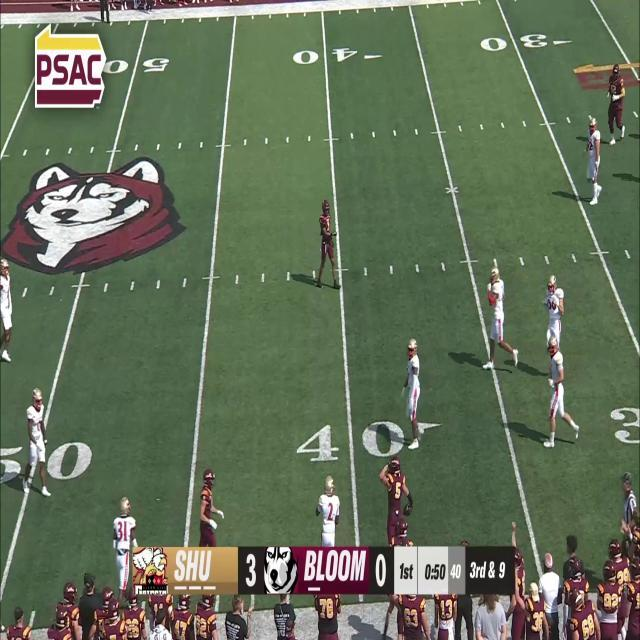football: (403, 501, 413, 518)
